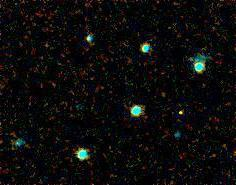star: (167, 99, 197, 129)
